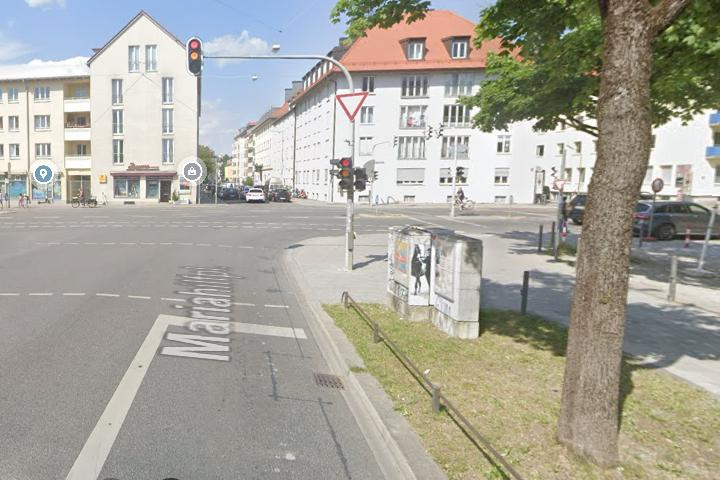google_maps: (34, 165, 52, 183), (184, 163, 201, 180)
traffic_sign: (334, 92, 369, 123)
vehicle: (623, 198, 720, 242), (243, 187, 267, 202), (267, 187, 291, 202)
